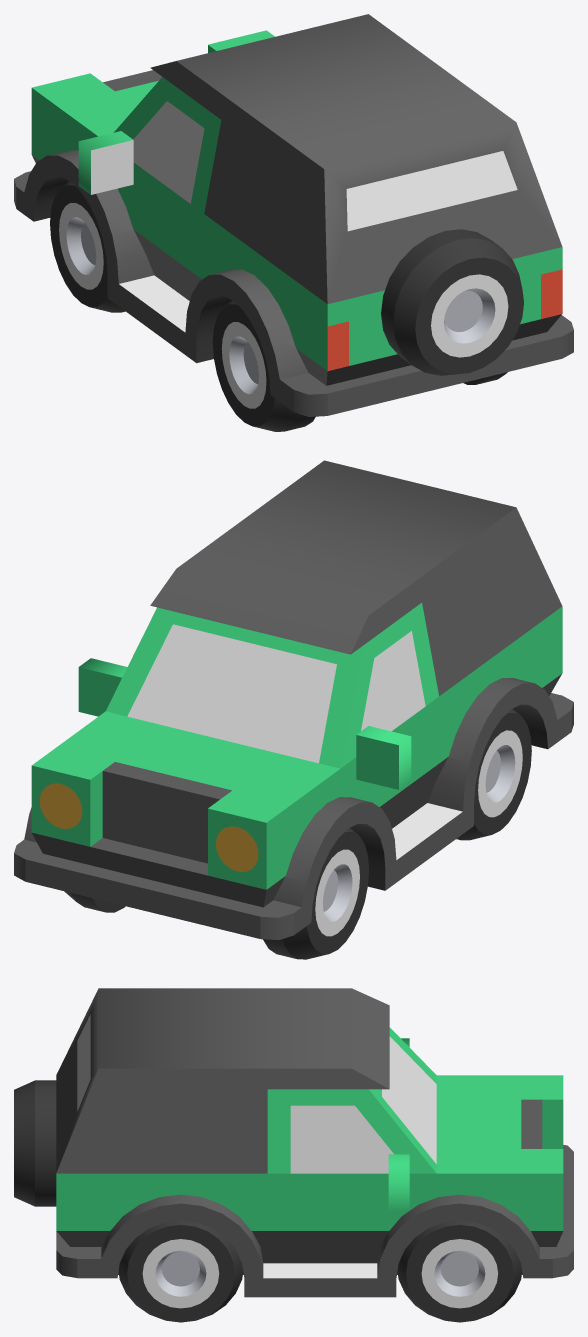
File: suv.glb
3 renders of one model, top to bottom at view 1: azimuth 30°, elevation 25°; view 2: azimuth 150°, elevation 25°; view 3: azimuth 270°, elevation 25°, orthographic. The views are drawn at different scales.
Visible parts, largest first — view 1: body, wheel_back, wheel_backLeft-wheel, wheel_frontLeft-wheel; view 2: body, wheel_frontLeft-wheel, wheel_backLeft-wheel; view 3: body, wheel_backRight-wheel, wheel_frontRight-wheel, wheel_back.
Boxes of the visible parts, <box> form: body: <box>14,14,573,416</box>; wheel_back: <box>381,229,523,375</box>; wheel_backLeft-wheel: <box>212,300,315,431</box>; wheel_frontLeft-wheel: <box>50,181,125,312</box>; body: <box>14,460,573,939</box>; wheel_frontLeft-wheel: <box>263,828,368,959</box>; wheel_backLeft-wheel: <box>456,708,531,840</box>; body: <box>56,988,573,1297</box>; wheel_backRight-wheel: <box>118,1220,243,1322</box>; wheel_frontRight-wheel: <box>397,1220,522,1322</box>; wheel_back: <box>14,1080,56,1206</box>.
Size of the model in its own units: 1.5 by 1.3 by 2.65.
